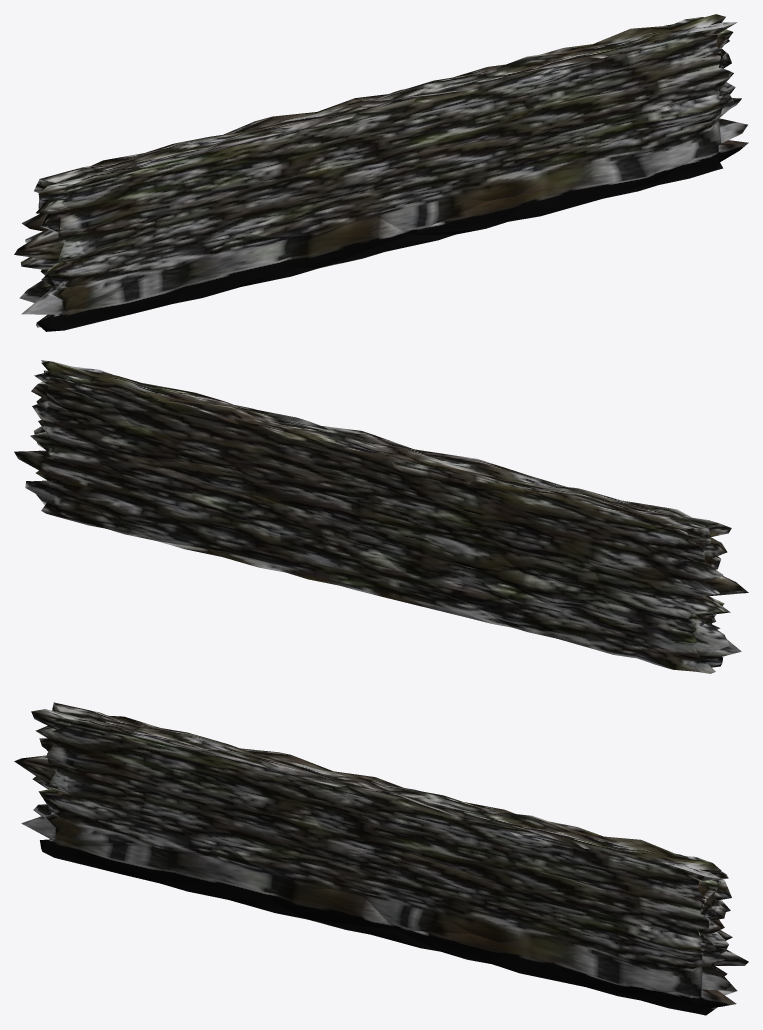
File: wall_longStone2.gltf
3 renders of one model, top to bottom at view 1: azimuth 30°, elevation 25°; view 2: azimuth 150°, elevation 25°; view 3: azimuth 330°, elevation 25°, orthographic.
Visible parts, largest first — view 1: StoneWall; view 2: StoneWall; view 3: StoneWall.
Part boxes in pixels (bbox=[...]): StoneWall: bbox=[14, 14, 748, 331]; StoneWall: bbox=[14, 360, 748, 673]; StoneWall: bbox=[14, 702, 748, 1015].
Bounding box in the file's own units: 20.77 × 4.05 × 1.18.
